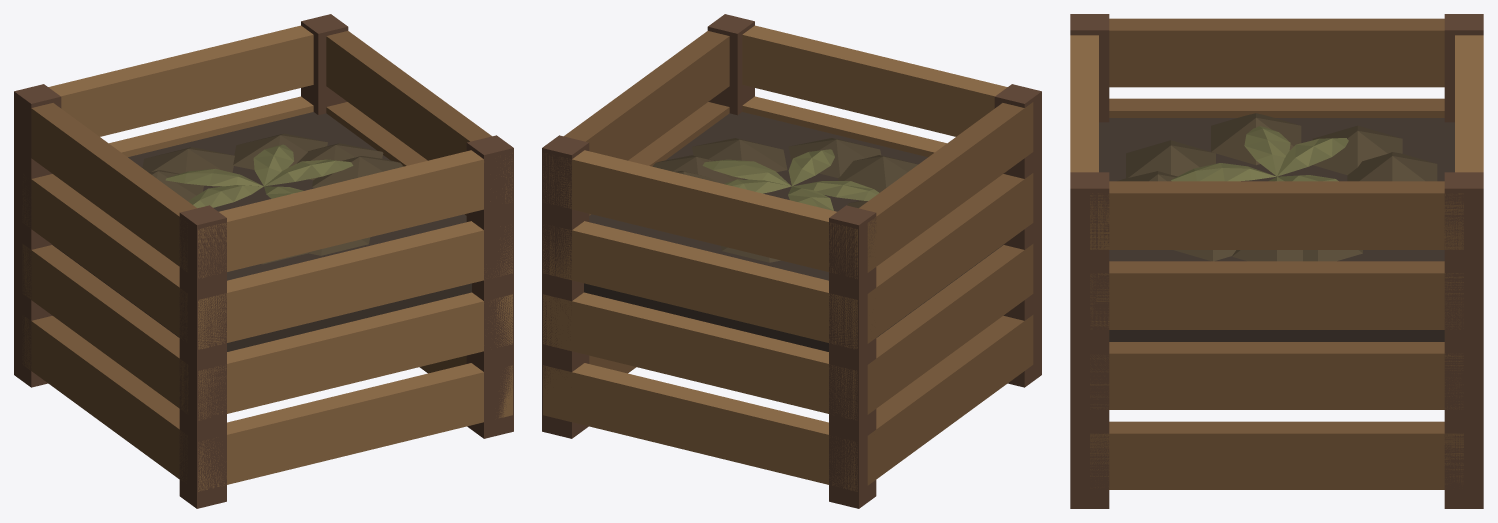
The model's file is compost.glb.
The picture shows the model from 3 angles, left to right: view 1: azimuth 30°, elevation 25°; view 2: azimuth 150°, elevation 25°; view 3: azimuth 270°, elevation 25°; orthographic projection. The views are drawn at different scales.
Visible parts, largest first — view 1: compost; view 2: compost; view 3: compost.
Part boxes in pixels (<box>): compost: <box>14,14,513,508</box>; compost: <box>542,14,1041,508</box>; compost: <box>1070,14,1483,508</box>.
Size of the model in its own units: 0.795 by 0.68 by 0.795.
